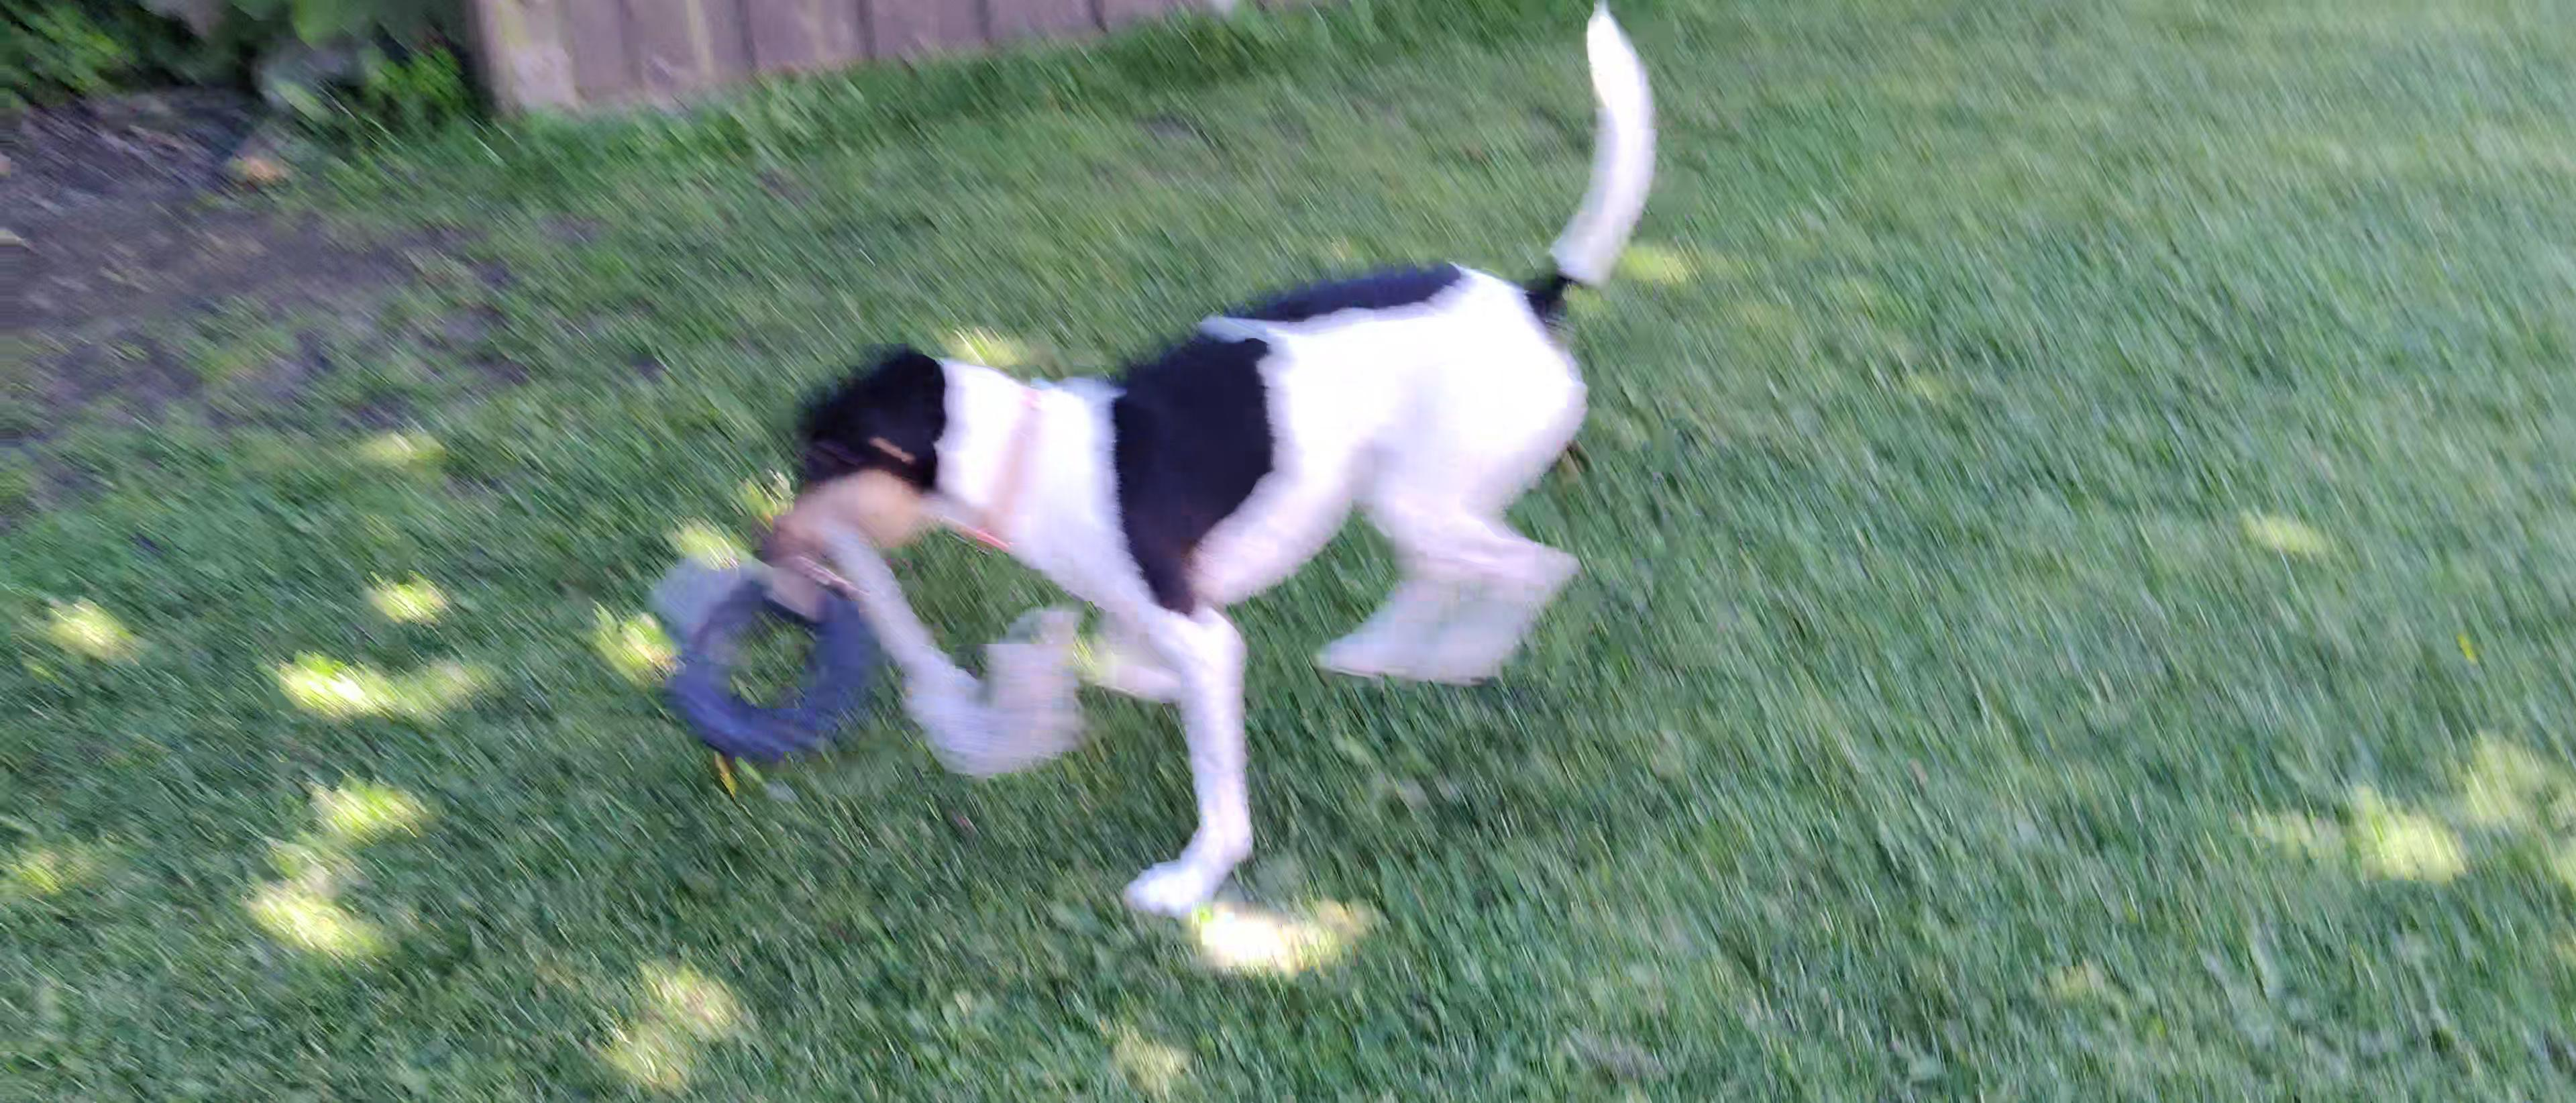Dog: (734, 0, 1666, 925)
